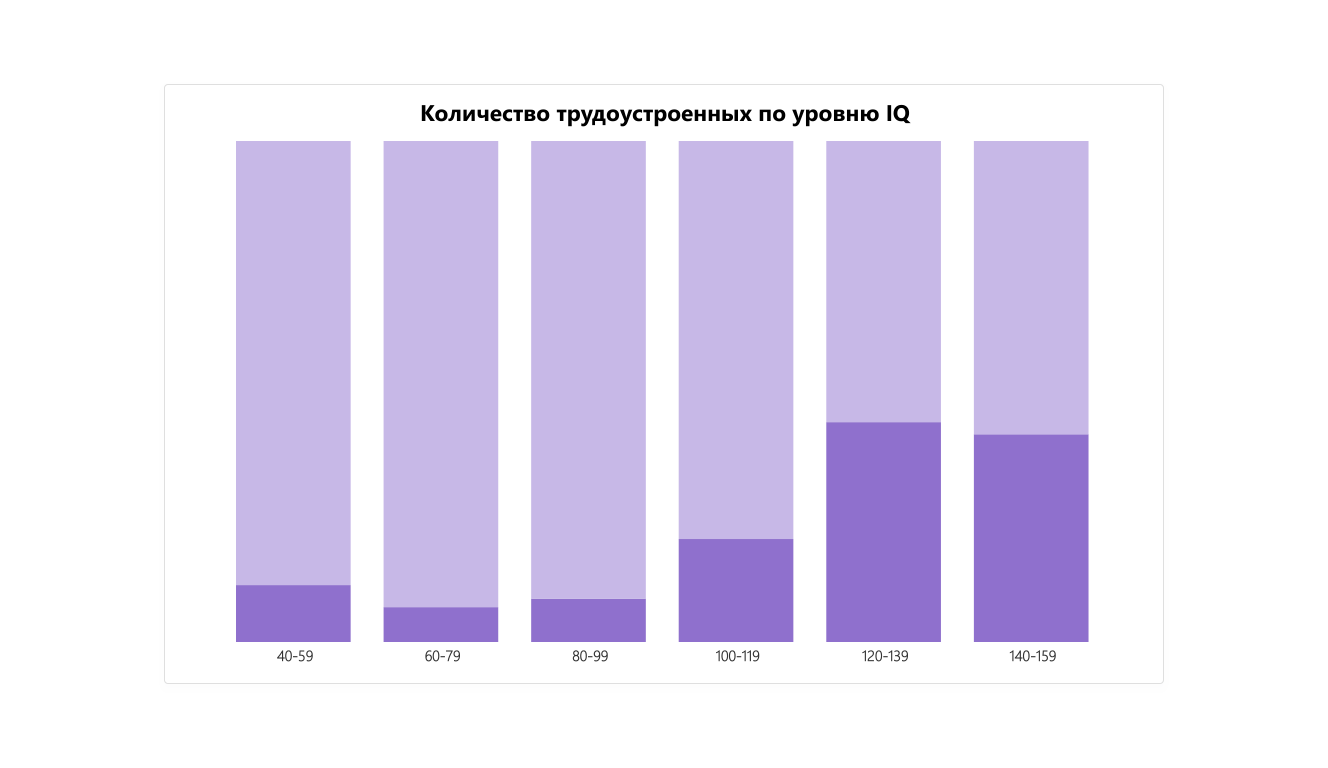

Layout of this report page (visuals, bound fields, positions):
{"tool":"powerbi","page":{"name":"УРОВЕНЬ IQ ","canvas":[1280,720],"ordinal":0},"visuals":[{"type":"hundredPercentStackedColumnChart","title":"Количество трудоустроенных по уровню IQ","fields":{"Category":["IQ.Уровень_IQ"],"Y":["Sum(IQ.Трудоустроенные)","Sum(IQ.Нетрудоустроенные)"]},"box":[139.7,60,1000.3,600],"z":0}]}

Visuals, with their boxes in screenshot pixels (x1, y1, x2, y2), scaled from the page's 1280x720 canvas onto the 1328x768 screenshot:
"Количество трудоустроенных по уровню IQ" hundredPercentStackedColumnChart: <box>145,64,1183,704</box>
